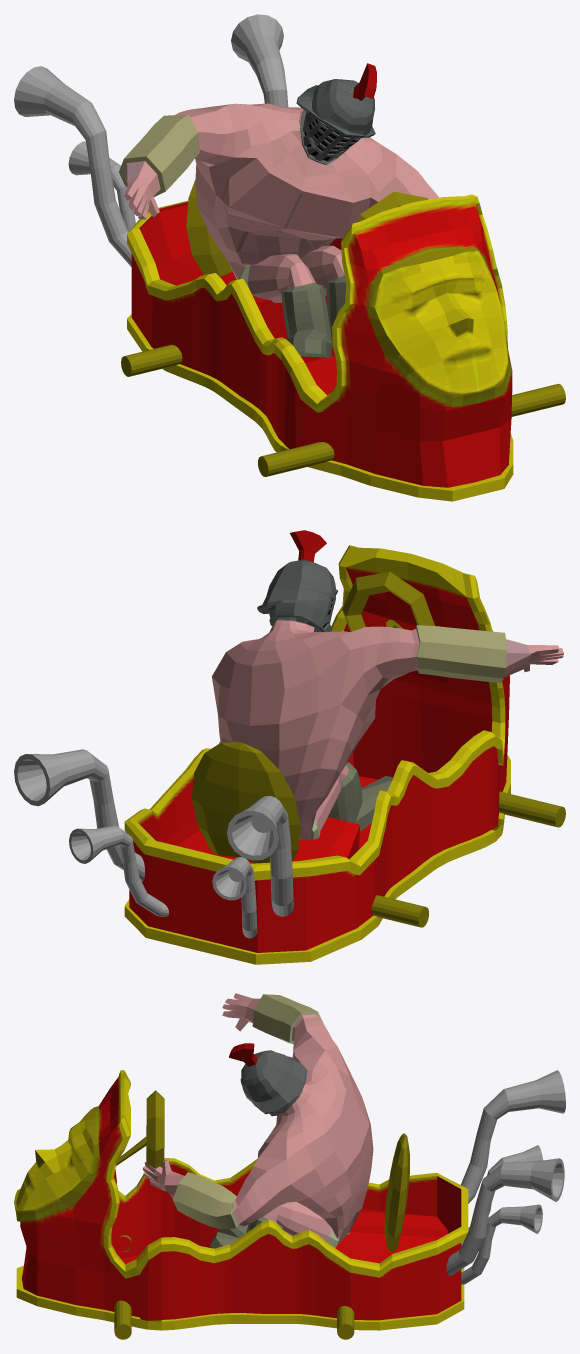
The model's file is gladiVacile_000551.obj.
3 views of the same model, one above another, from view 1: azimuth 30°, elevation 25°; view 2: azimuth 150°, elevation 25°; view 3: azimuth 270°, elevation 25° (orthographic). The views are drawn at different scales.
Parts seen in each view (by area): view 1: GladiChasis_GladiChasisH, Gadiador_Gladiador_H.001, GladiTubos_GladiTubosH, GladiVolante_GladiVolanteH; view 2: GladiChasis_GladiChasisH, Gadiador_Gladiador_H.001, GladiTubos_GladiTubosH, GladiVolante_GladiVolanteH; view 3: GladiChasis_GladiChasisH, Gadiador_Gladiador_H.001, GladiTubos_GladiTubosH, GladiVolante_GladiVolanteH.
Part boxes in pixels (x1=…): GladiChasis_GladiChasisH: x1=127, y1=194, x2=513, y2=501; Gadiador_Gladiador_H.001: x1=119, y1=63, x2=438, y2=357; GladiTubos_GladiTubosH: x1=14, y1=14, x2=288, y2=266; GladiVolante_GladiVolanteH: x1=121, y1=179, x2=565, y2=476; GladiChasis_GladiChasisH: x1=124, y1=545, x2=510, y2=964; Gadiador_Gladiador_H.001: x1=212, y1=530, x2=563, y2=839; GladiTubos_GladiTubosH: x1=14, y1=749, x2=293, y2=938; GladiVolante_GladiVolanteH: x1=192, y1=571, x2=565, y2=927; GladiChasis_GladiChasisH: x1=14, y1=1070, x2=468, y2=1330; Gadiador_Gladiador_H.001: x1=142, y1=993, x2=373, y2=1248; GladiTubos_GladiTubosH: x1=446, y1=1070, x2=565, y2=1284; GladiVolante_GladiVolanteH: x1=114, y1=1090, x2=409, y2=1339.
Size of the model in its own units: 6.72 by 5.55 by 10.78.
